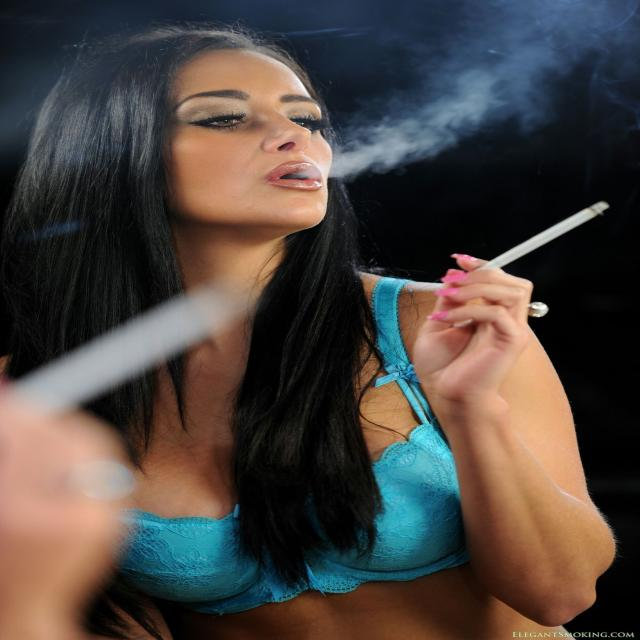smoke: (454, 193, 616, 281)
